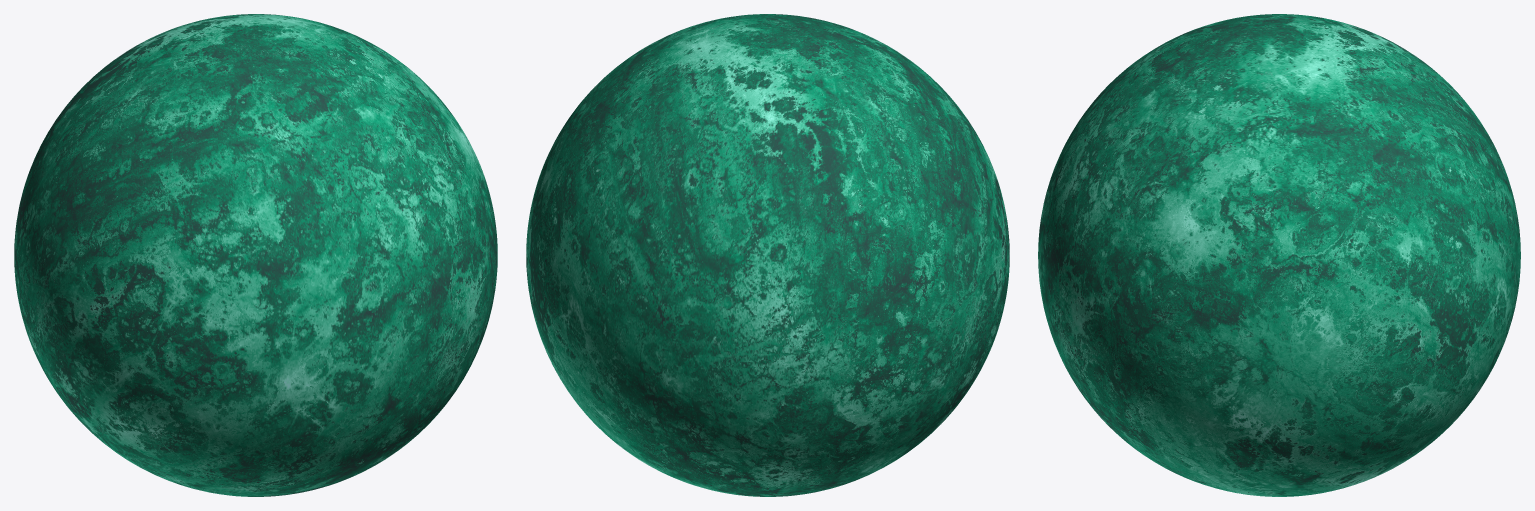
Rendered from Planet X.glb.
3 views of the same model, side by side, from view 1: azimuth 30°, elevation 25°; view 2: azimuth 150°, elevation 25°; view 3: azimuth 270°, elevation 25° (orthographic).
Visible parts, largest first — view 1: Sphere_0; view 2: Sphere_0; view 3: Sphere_0.
Part boxes in pixels (x1,y1,x2,y2): Sphere_0: (14, 14, 497, 496); Sphere_0: (526, 14, 1009, 496); Sphere_0: (1038, 14, 1520, 496).
Bounding box in the file's own units: 300 × 299 × 299.
Materials: 1 (1 with a texture image).
